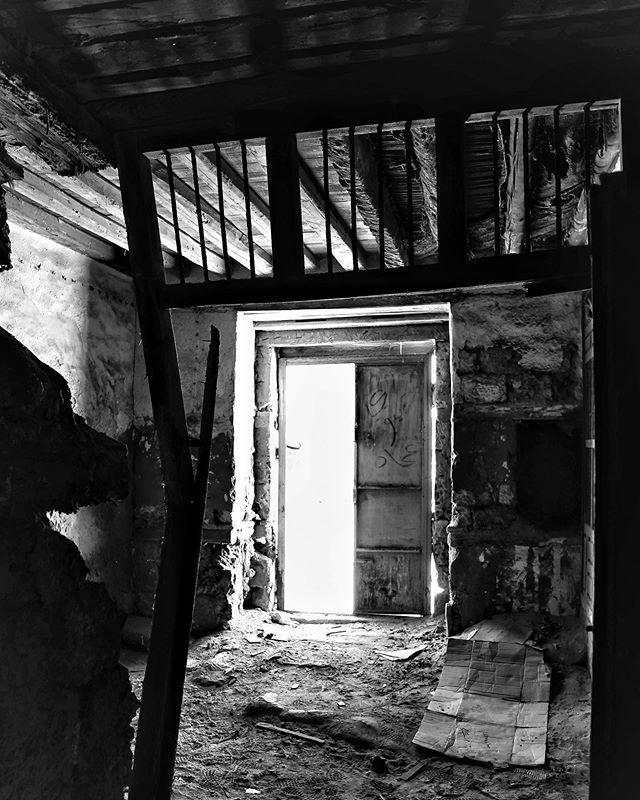door: (267, 347, 426, 630)
